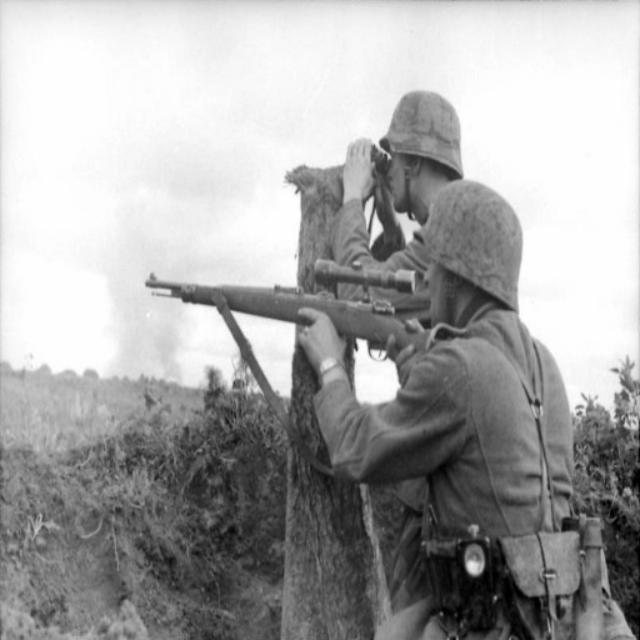other: (386, 189, 574, 639), (337, 92, 458, 282)
